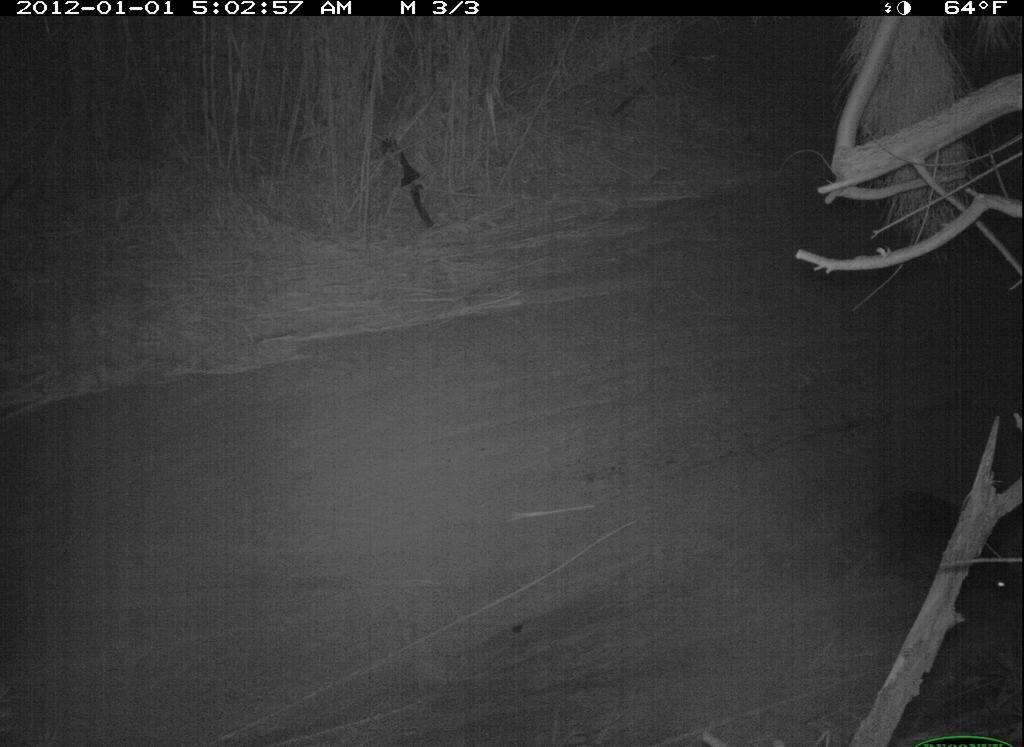raccoon: (827, 478, 1023, 612)
